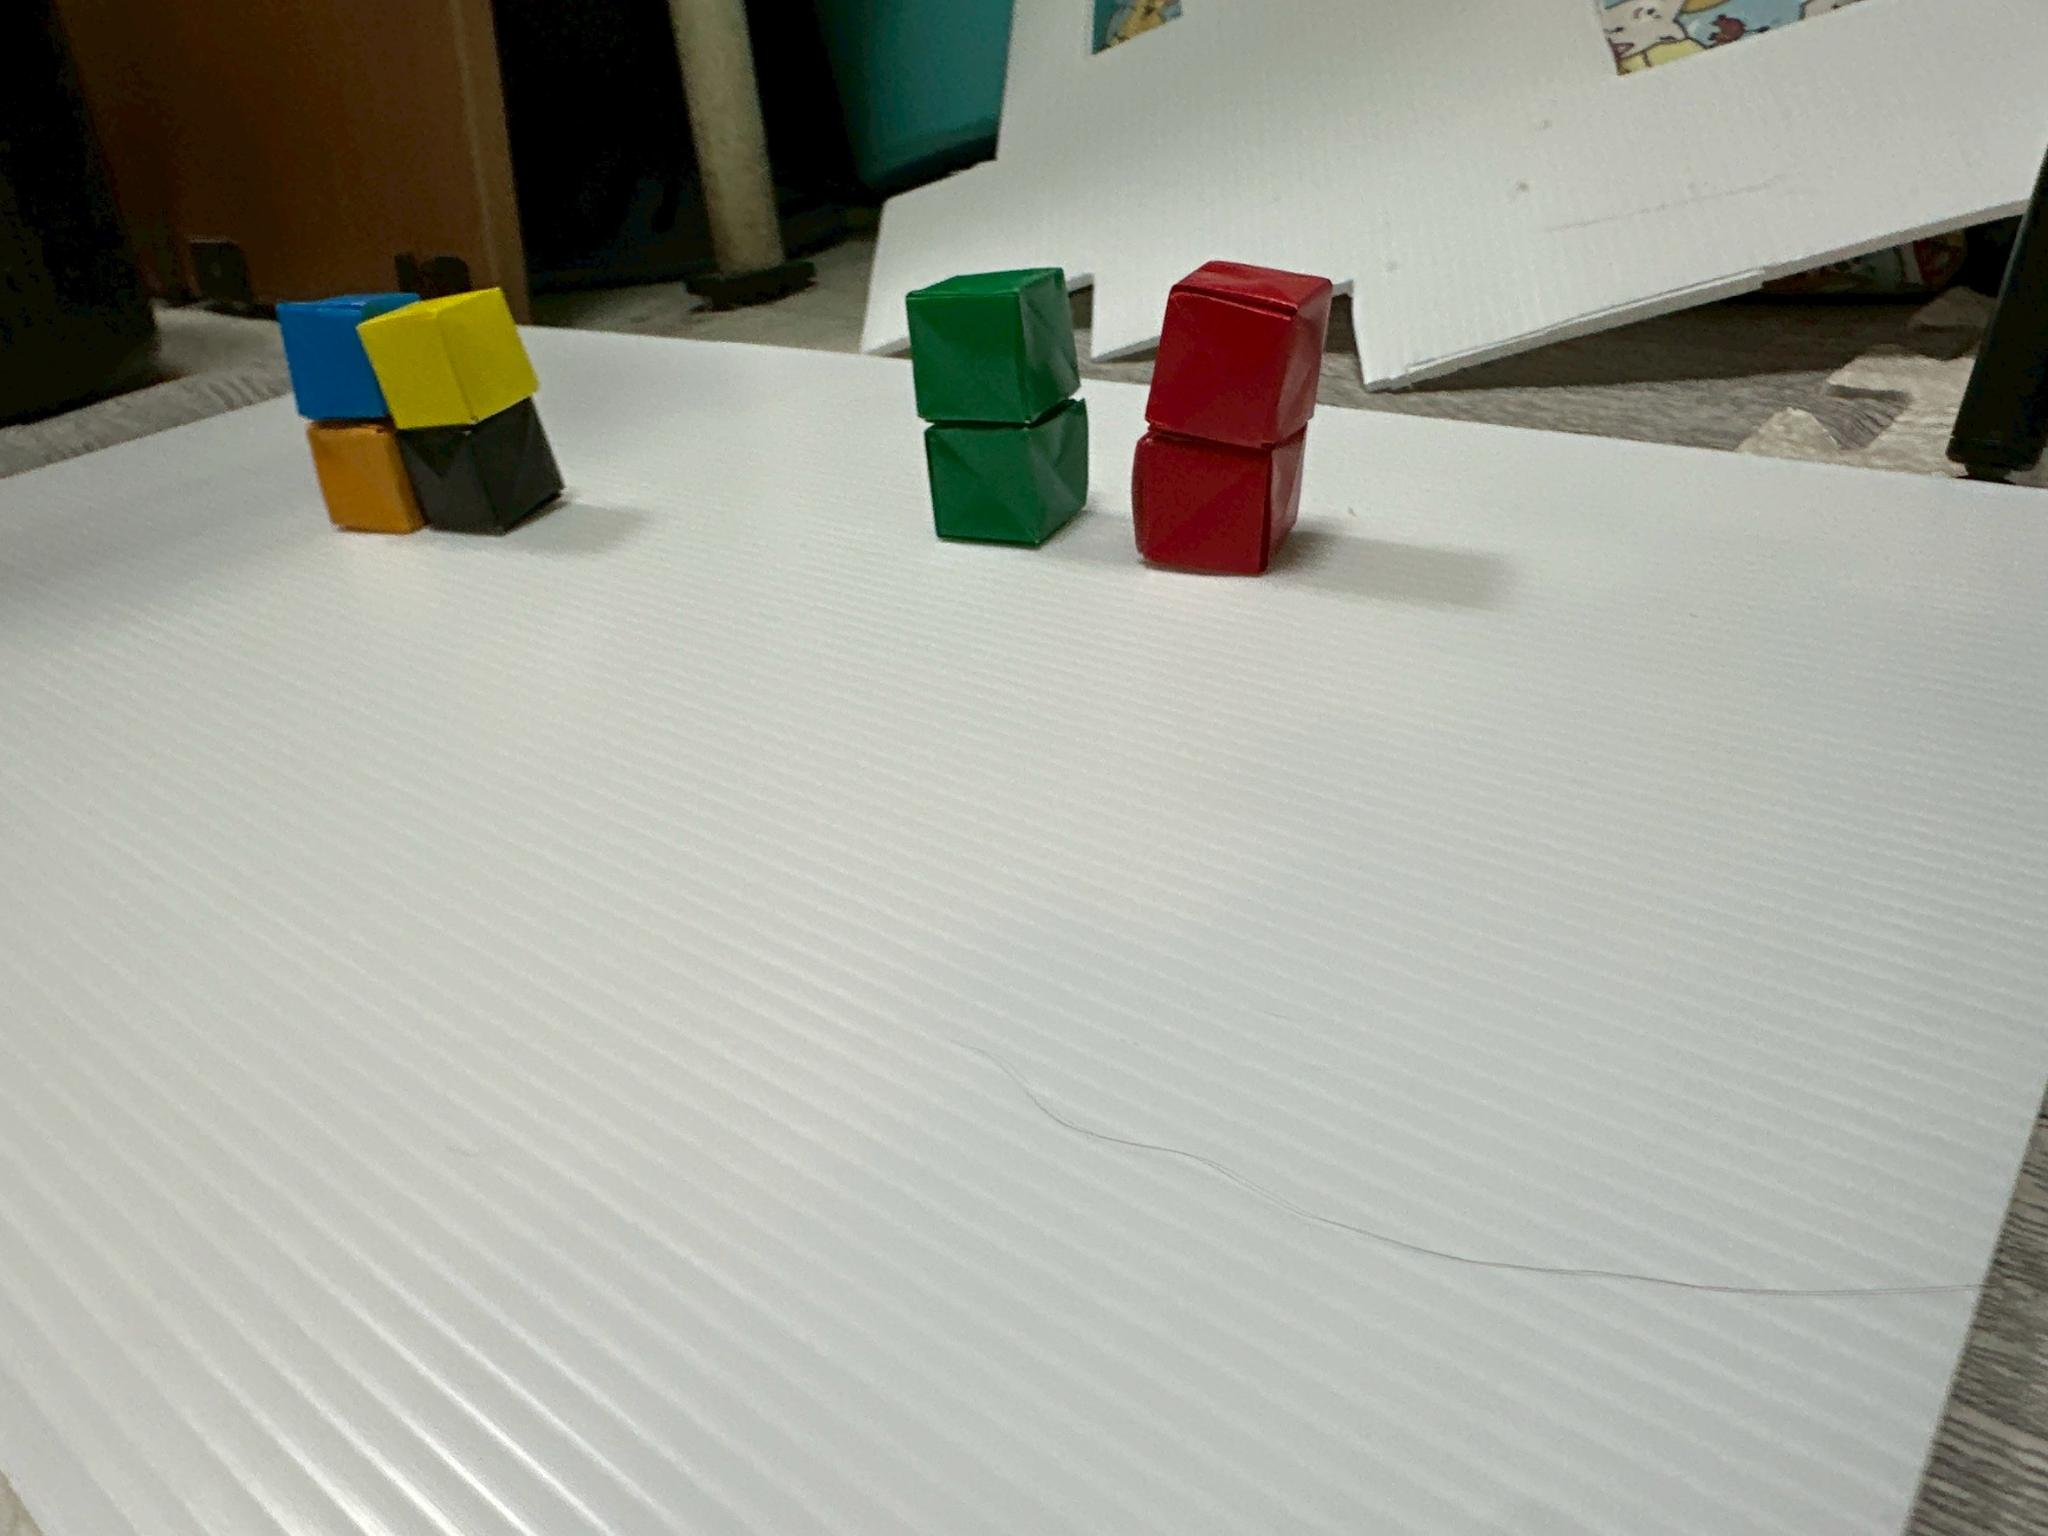cube: (1147, 261, 1334, 447), (906, 268, 1079, 423), (358, 289, 539, 429), (1132, 429, 1305, 573), (926, 400, 1087, 545), (395, 397, 563, 534), (276, 294, 418, 421), (306, 423, 424, 534)
